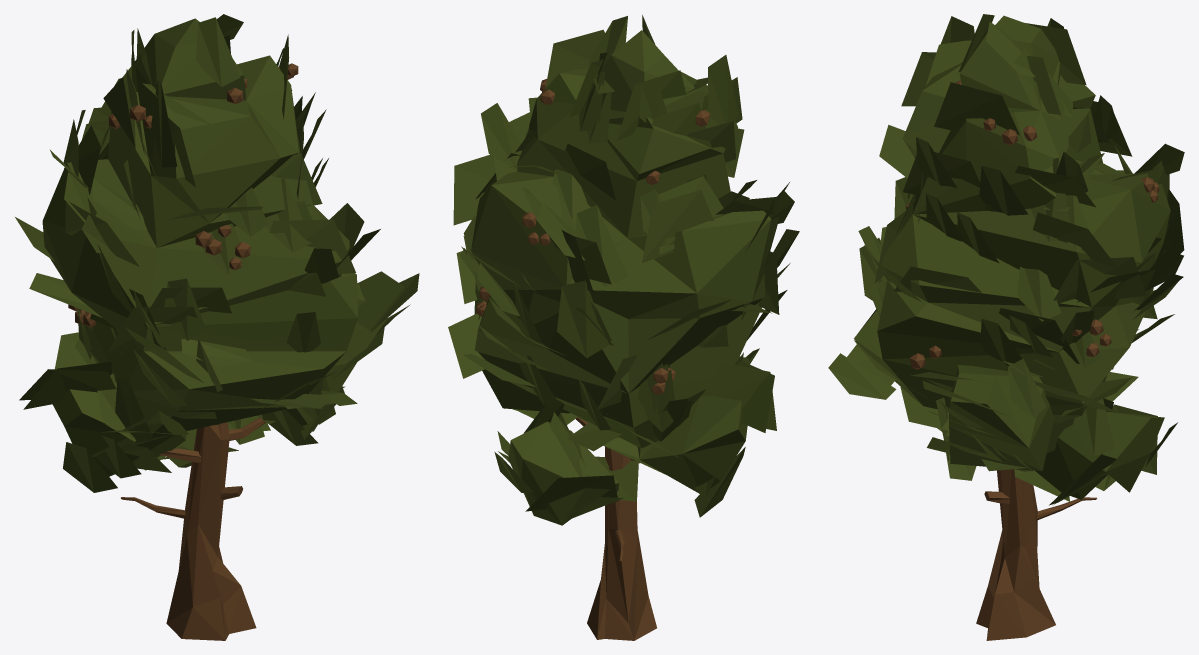
Rendered from tree-juniper-sapling-a.fbx.
3 renders of one model, left to right at view 1: azimuth 30°, elevation 25°; view 2: azimuth 150°, elevation 25°; view 3: azimuth 270°, elevation 25°, orthographic. The views are drawn at different scales.
Parts seen in each view (by area): view 1: tree-juniper-sapling-a; view 2: tree-juniper-sapling-a; view 3: tree-juniper-sapling-a.
Part boxes in pixels (<box>): tree-juniper-sapling-a: <box>15,14,419,640</box>; tree-juniper-sapling-a: <box>448,15,799,640</box>; tree-juniper-sapling-a: <box>828,14,1184,640</box>.
Size of the model in its own units: 1.14 by 1.86 by 0.9897.
